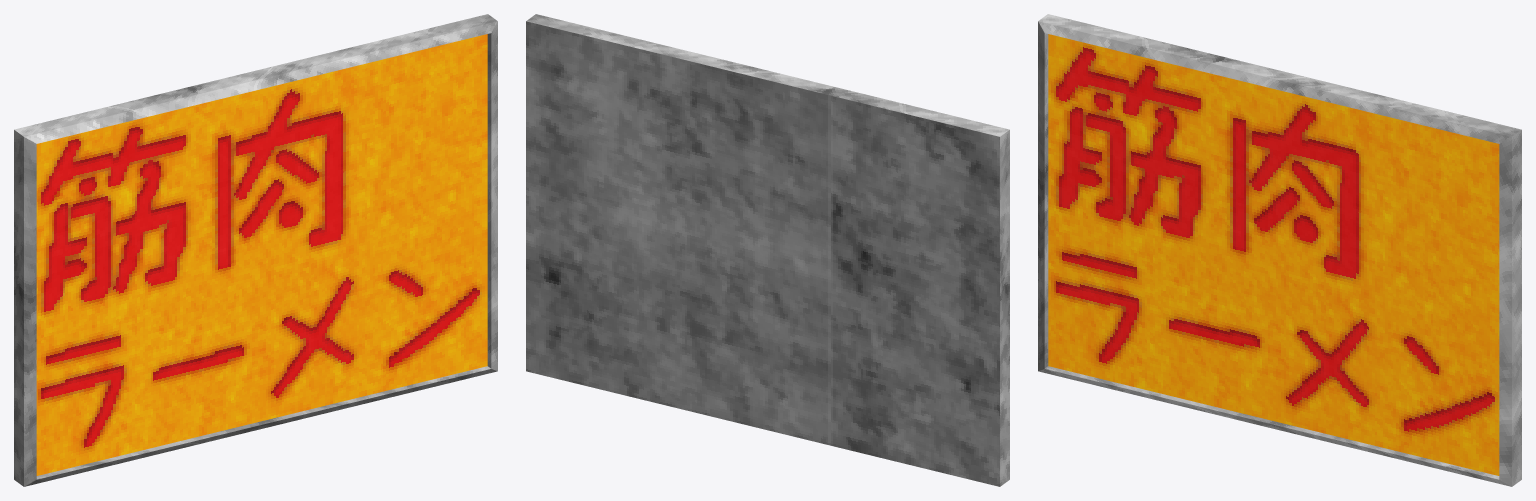
Rendered from sign.glb.
3 renders of one model, left to right at view 1: azimuth 30°, elevation 25°; view 2: azimuth 150°, elevation 25°; view 3: azimuth 330°, elevation 25°, orthographic.
Parts seen in each view (by area): view 1: sign, sign.border; view 2: sign.border; view 3: sign, sign.border.
Boxes of the visible parts, x1=… form: sign: x1=36, y1=34, x2=487, y2=475; sign.border: x1=14, y1=14, x2=497, y2=486; sign.border: x1=526, y1=14, x2=1009, y2=486; sign: x1=1048, y1=34, x2=1499, y2=475; sign.border: x1=1038, y1=14, x2=1521, y2=486.
Bounding box in the file's own units: 1.48 × 1.04 × 0.0704.
2 materials, 2 textured.
